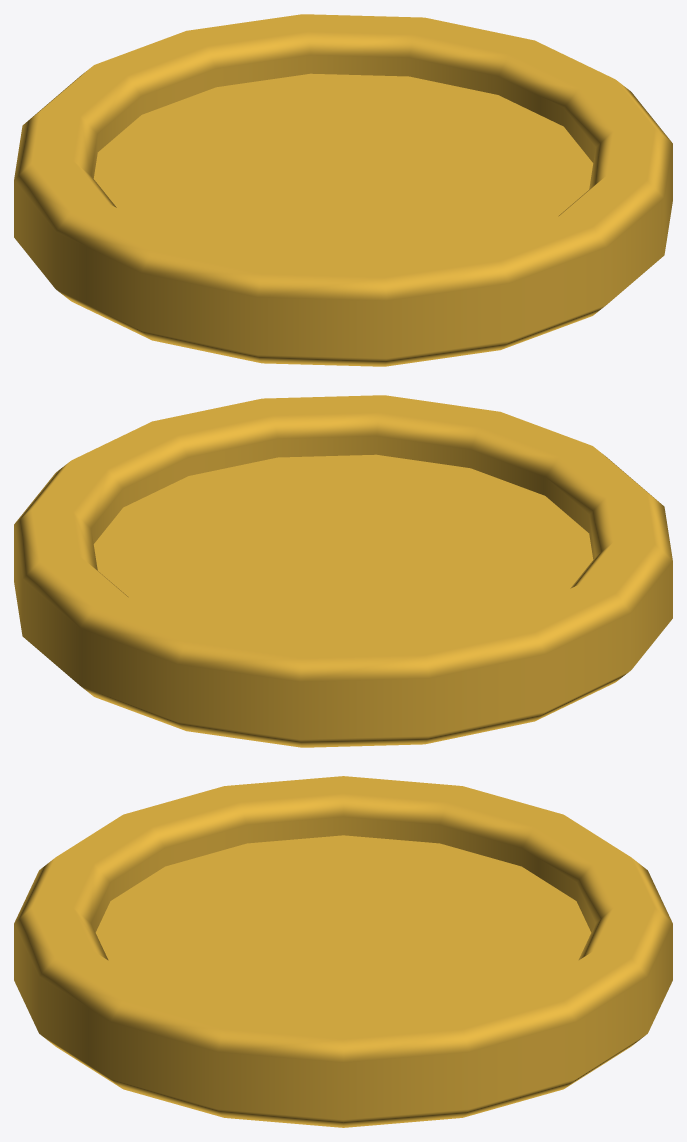
The model's file is coin1-1notex.fbx.
The picture shows the model from 3 angles, top to bottom: view 1: azimuth 30°, elevation 25°; view 2: azimuth 150°, elevation 25°; view 3: azimuth 270°, elevation 25°; orthographic projection.
Visible parts, largest first — view 1: coin1-1notex; view 2: coin1-1notex; view 3: coin1-1notex.
Boxes of the visible parts, left/top/right/bottom form: coin1-1notex: left=14, top=14, right=672, bottom=366; coin1-1notex: left=14, top=395, right=672, bottom=747; coin1-1notex: left=14, top=776, right=672, bottom=1127.
Size of the model in its own units: 0.2999 by 0.0445 by 0.2999.
